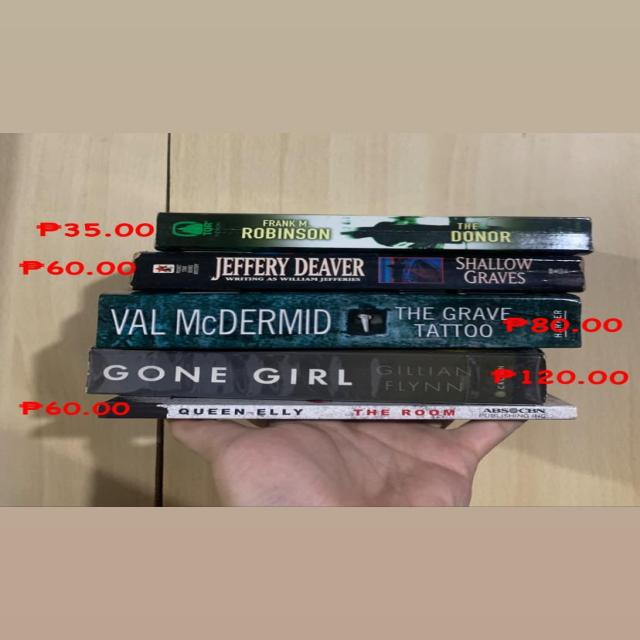book: (86, 349, 546, 405), (96, 294, 582, 347), (130, 251, 586, 291), (157, 212, 593, 251), (99, 404, 577, 418)
